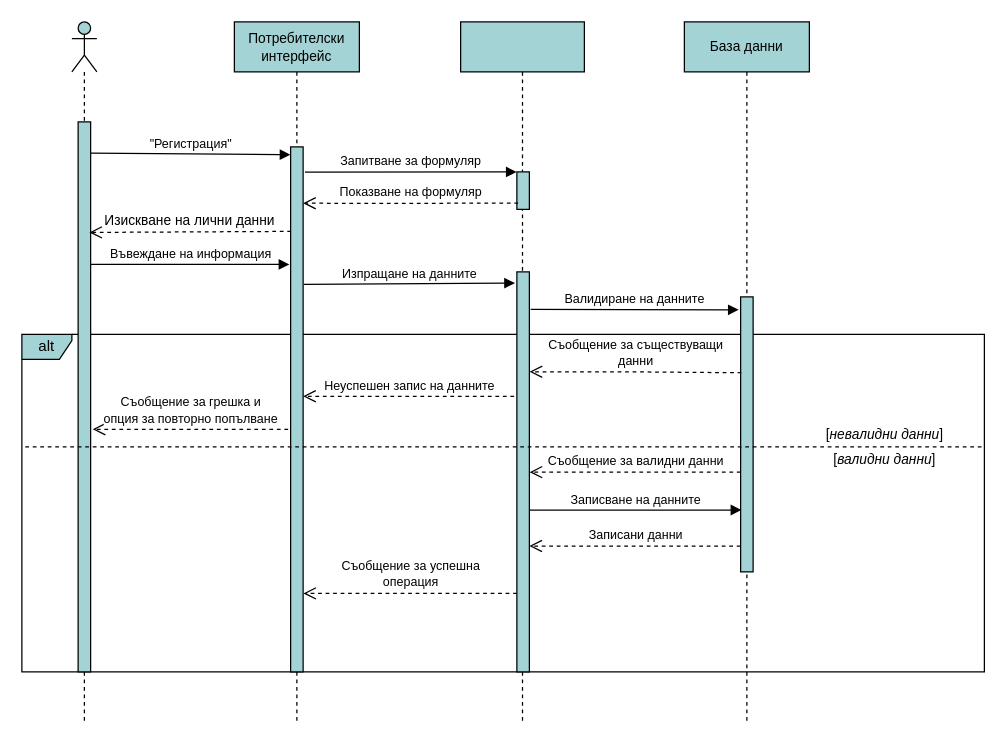
This 1006x744 diagram has some shape labels left out. The shapes that lost their labels are listed below. From the top down, each one's box as (x1, y1, x2, y2) in pixels, then its label:
(71, 21, 97, 722): Нерегистриран потребител
(459, 21, 584, 722): Система за регистрация
